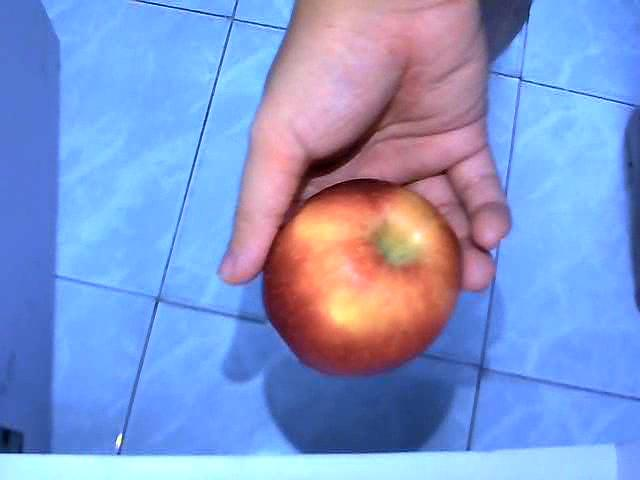apple: (260, 177, 460, 377)
